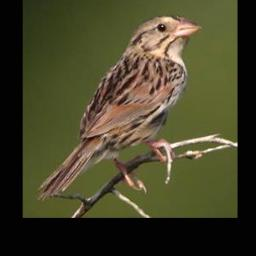Sparrow: (40, 12, 202, 199)
